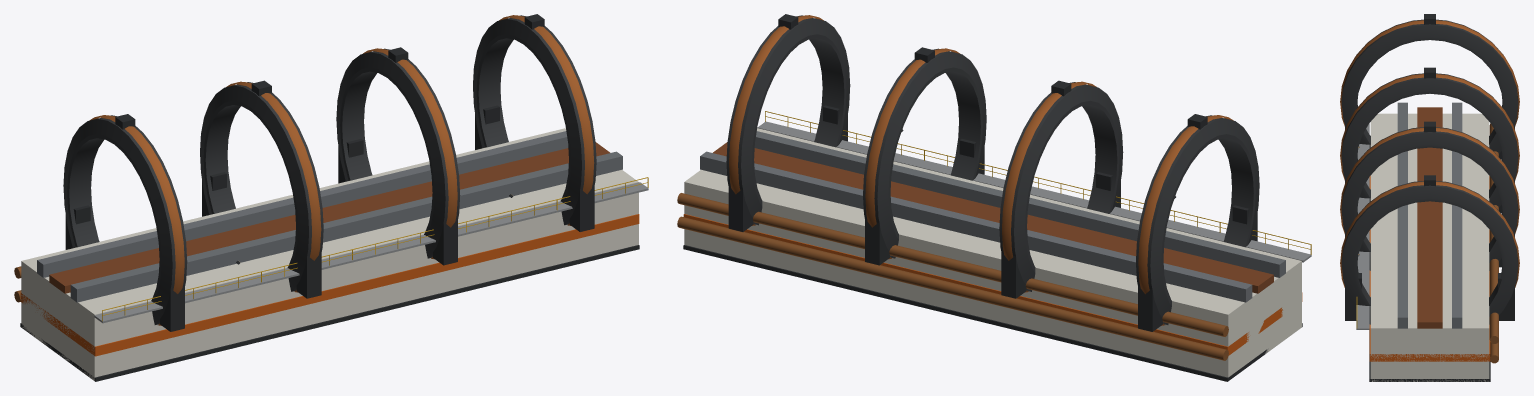
Rendered from driver-rail.glb.
The picture shows the model from 3 angles, left to right: view 1: azimuth 30°, elevation 25°; view 2: azimuth 150°, elevation 25°; view 3: azimuth 270°, elevation 25°; orthographic projection. The views are drawn at different scales.
Visible parts, largest first — view 1: Piece_lod0; view 2: Piece_lod0; view 3: Piece_lod0.
Part boxes in pixels (x1=…): Piece_lod0: x1=14, y1=14, x2=648, y2=381; Piece_lod0: x1=677, y1=14, x2=1311, y2=381; Piece_lod0: x1=1340, y1=14, x2=1519, y2=381.
Size of what is drawn, in the model's own units: 60.05 by 23.1 by 21.2.
